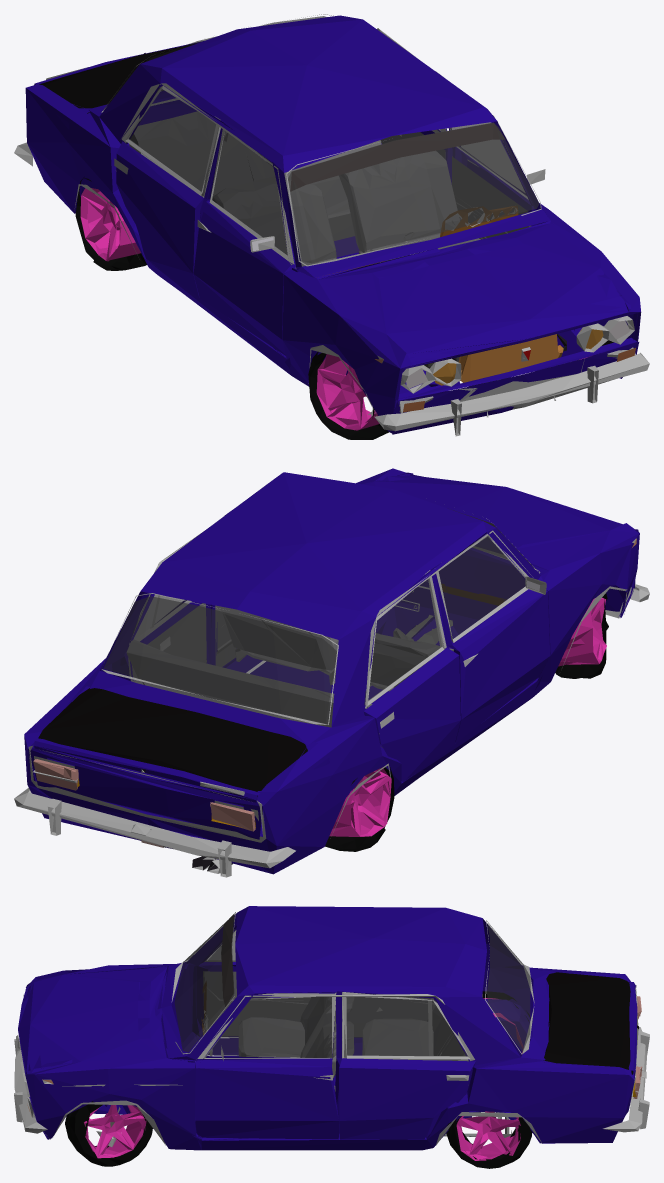
Rendered from lada2103.glb.
The picture shows the model from 3 angles, top to bottom: view 1: azimuth 30°, elevation 25°; view 2: azimuth 150°, elevation 25°; view 3: azimuth 270°, elevation 25°; orthographic projection. The views are drawn at different scales.
Visible parts, largest first — view 1: Object_53, Object_82, Object_85, Object_4, Object_45, Object_222; view 2: Object_53, Object_4, Object_82, Object_85, Object_45; view 3: Object_53, Object_4, Object_82, Object_85, Object_45.
Part boxes in pixels (x1,y1,x2,y2): Object_53: (25, 15, 641, 434); Object_82: (103, 16, 538, 263); Object_85: (129, 111, 531, 268); Object_4: (14, 14, 649, 436); Object_45: (75, 123, 613, 439); Object_222: (458, 334, 563, 382); Object_53: (24, 468, 639, 874); Object_4: (14, 515, 649, 877); Object_82: (103, 521, 535, 722); Object_85: (126, 603, 453, 747); Object_45: (325, 510, 608, 851); Object_53: (18, 906, 637, 1150); Object_4: (14, 912, 649, 1160); Object_82: (174, 914, 530, 1057); Object_85: (203, 971, 482, 1077); Object_45: (65, 914, 532, 1168).
Size of the model in its own units: 1.83 by 1.33 by 4.23.
8 materials, 8 textured.
